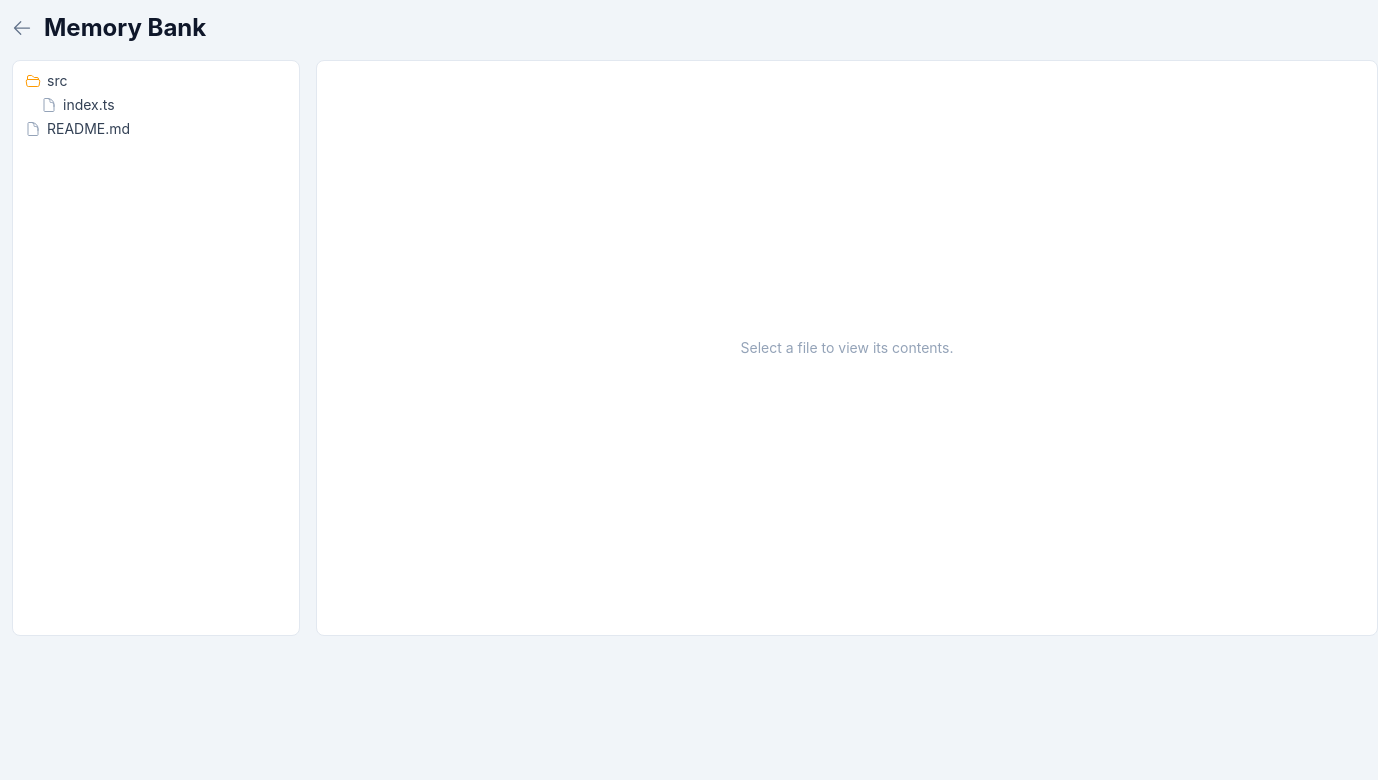
Test case: GitTemplateFilesView › renders markdown content via the prose typography wrapper for .md files
The image size is (1378, 780).
Step 1. Click the button "README.md" → click(89, 128), box [21,117,291,141]
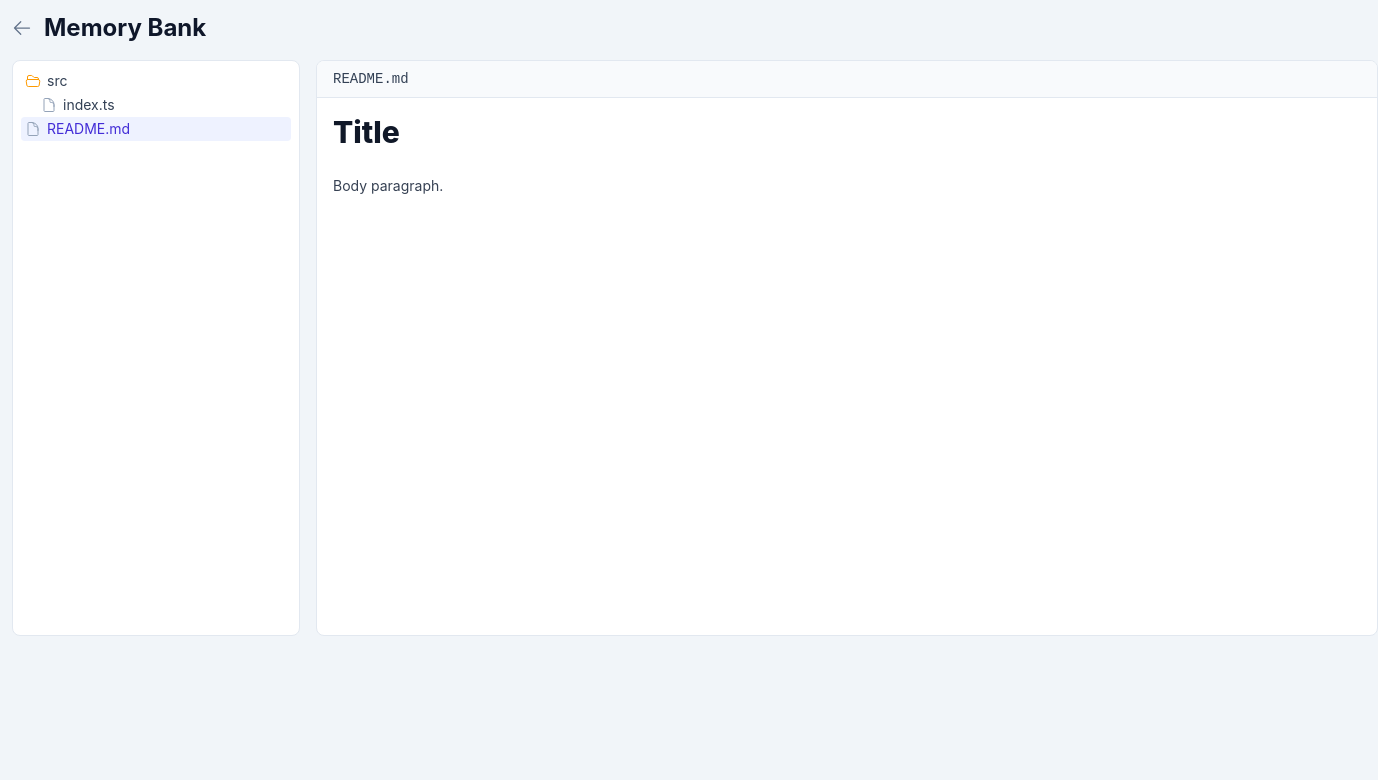
Now the element showing "Title Body paragraph." is shown, box [333,114,443,194]
Now the heading "Title" is shown, box [333,114,400,150]
Now the text "Body paragraph." is shown, box [333,177,443,194]
